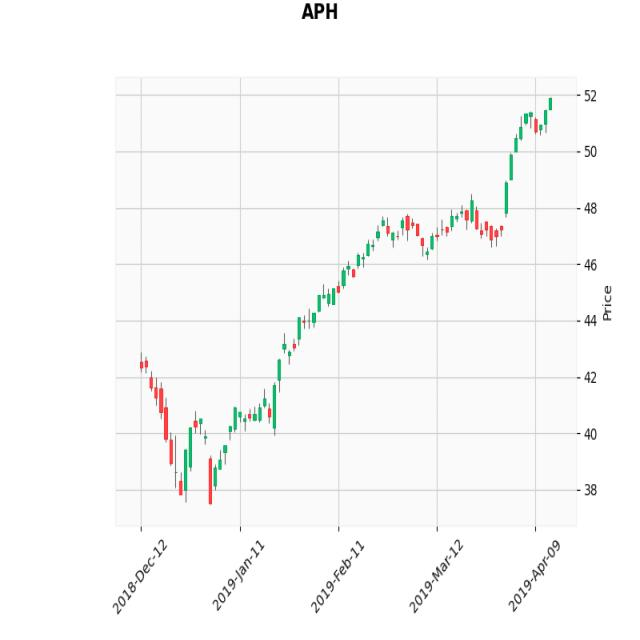Double-Bottom: (152, 364, 248, 508)
